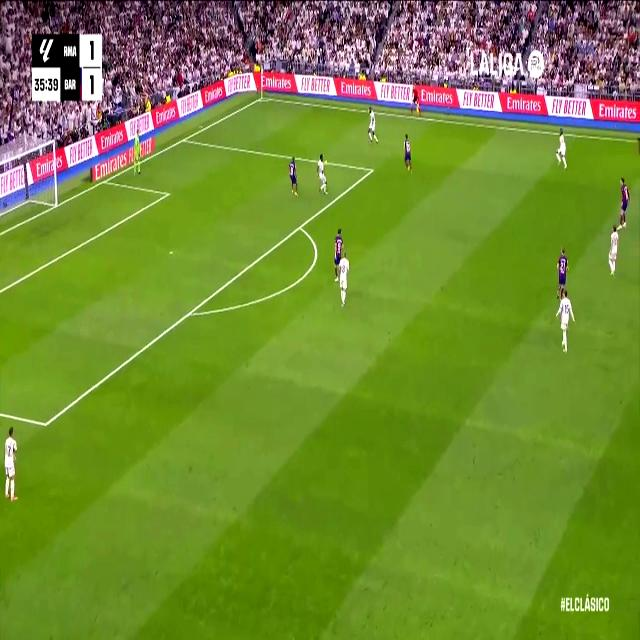bigarea_bottom_inner: (40, 411, 51, 436)
bigarea_top_inner: (368, 161, 376, 178)
bigarea_top_outter: (182, 133, 188, 144)
bottom_arc_area_intersection: (185, 302, 195, 323)
corner: (257, 92, 265, 103)
smallarea_top_inner: (165, 187, 170, 199)
top_arc_area_intersection: (296, 217, 304, 235)
